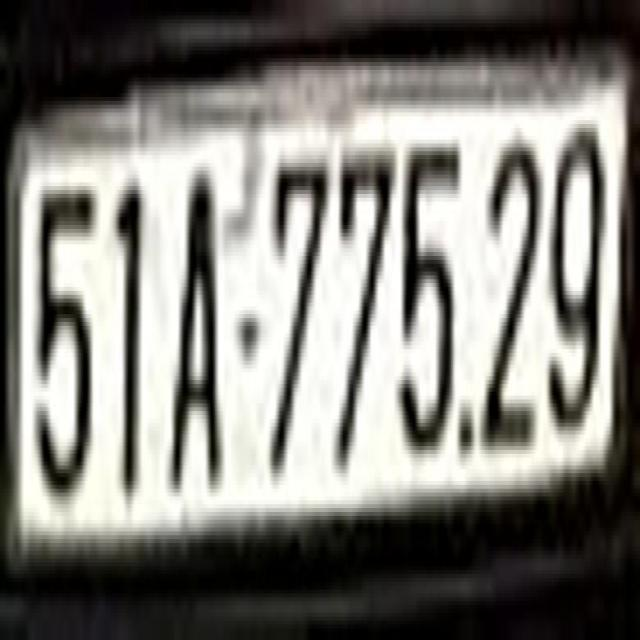1: (112, 186, 144, 512)
2: (485, 128, 536, 419)
5: (40, 178, 91, 481), (407, 163, 459, 434)
7: (269, 163, 329, 450), (339, 151, 391, 458)
9: (551, 116, 600, 419)
A: (170, 167, 222, 469)
